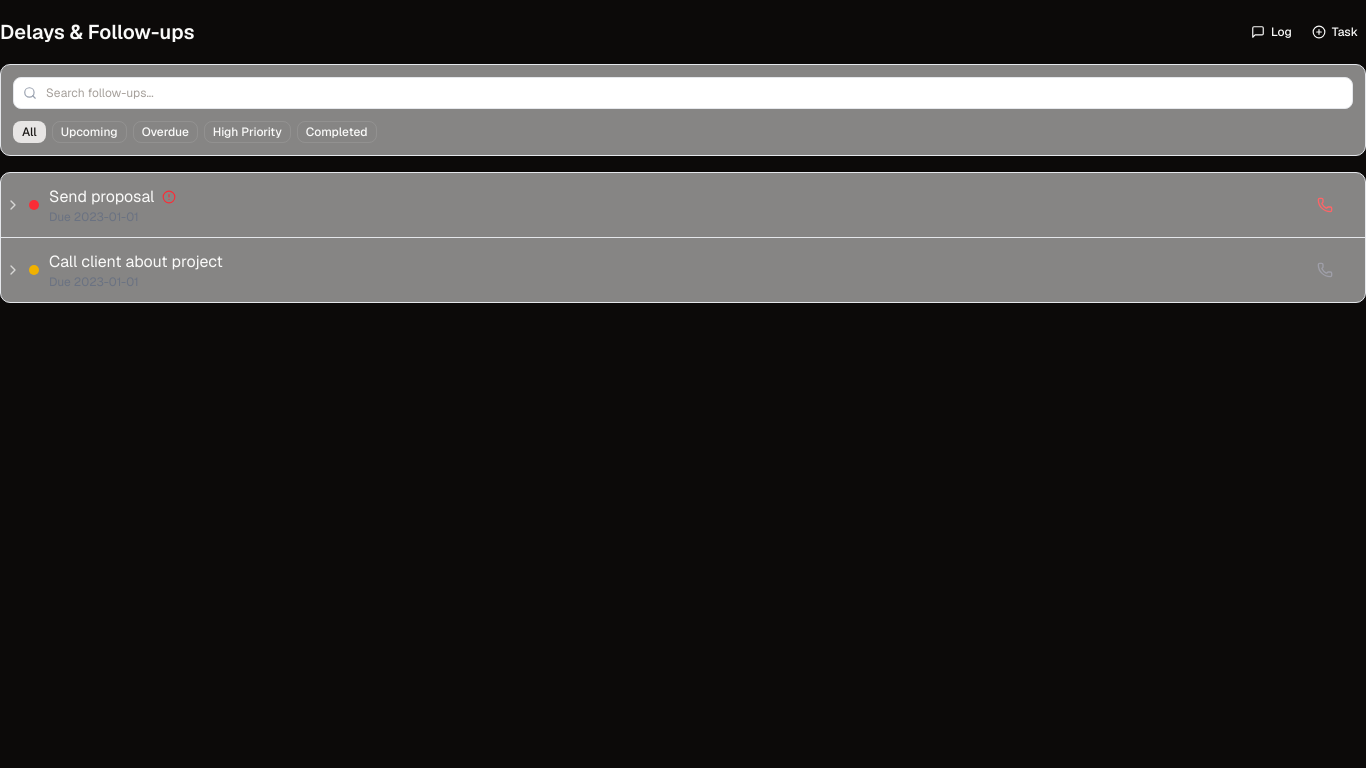
ClientFollowUps › Task Creation › should open task creation dialog when Task button is clicked
Expected: the text "Call client about project" is shown, 49,250 -> 223,274
Use more specific selector for the main task creation button
Click the button titled "Create follow-up task" at (1335, 32), box 1304,16 -> 1365,48
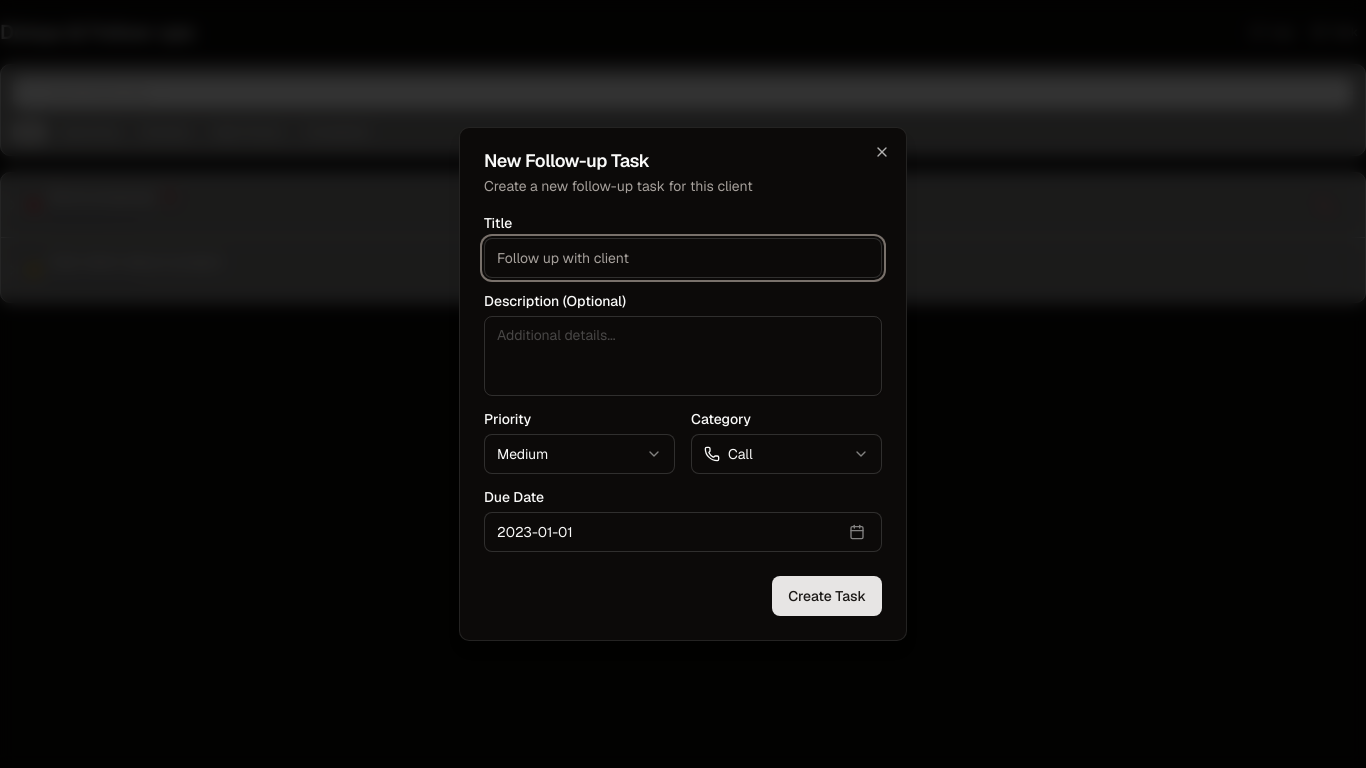
Now the heading "New Follow-up Task" is shown, box 484,149 -> 650,172
